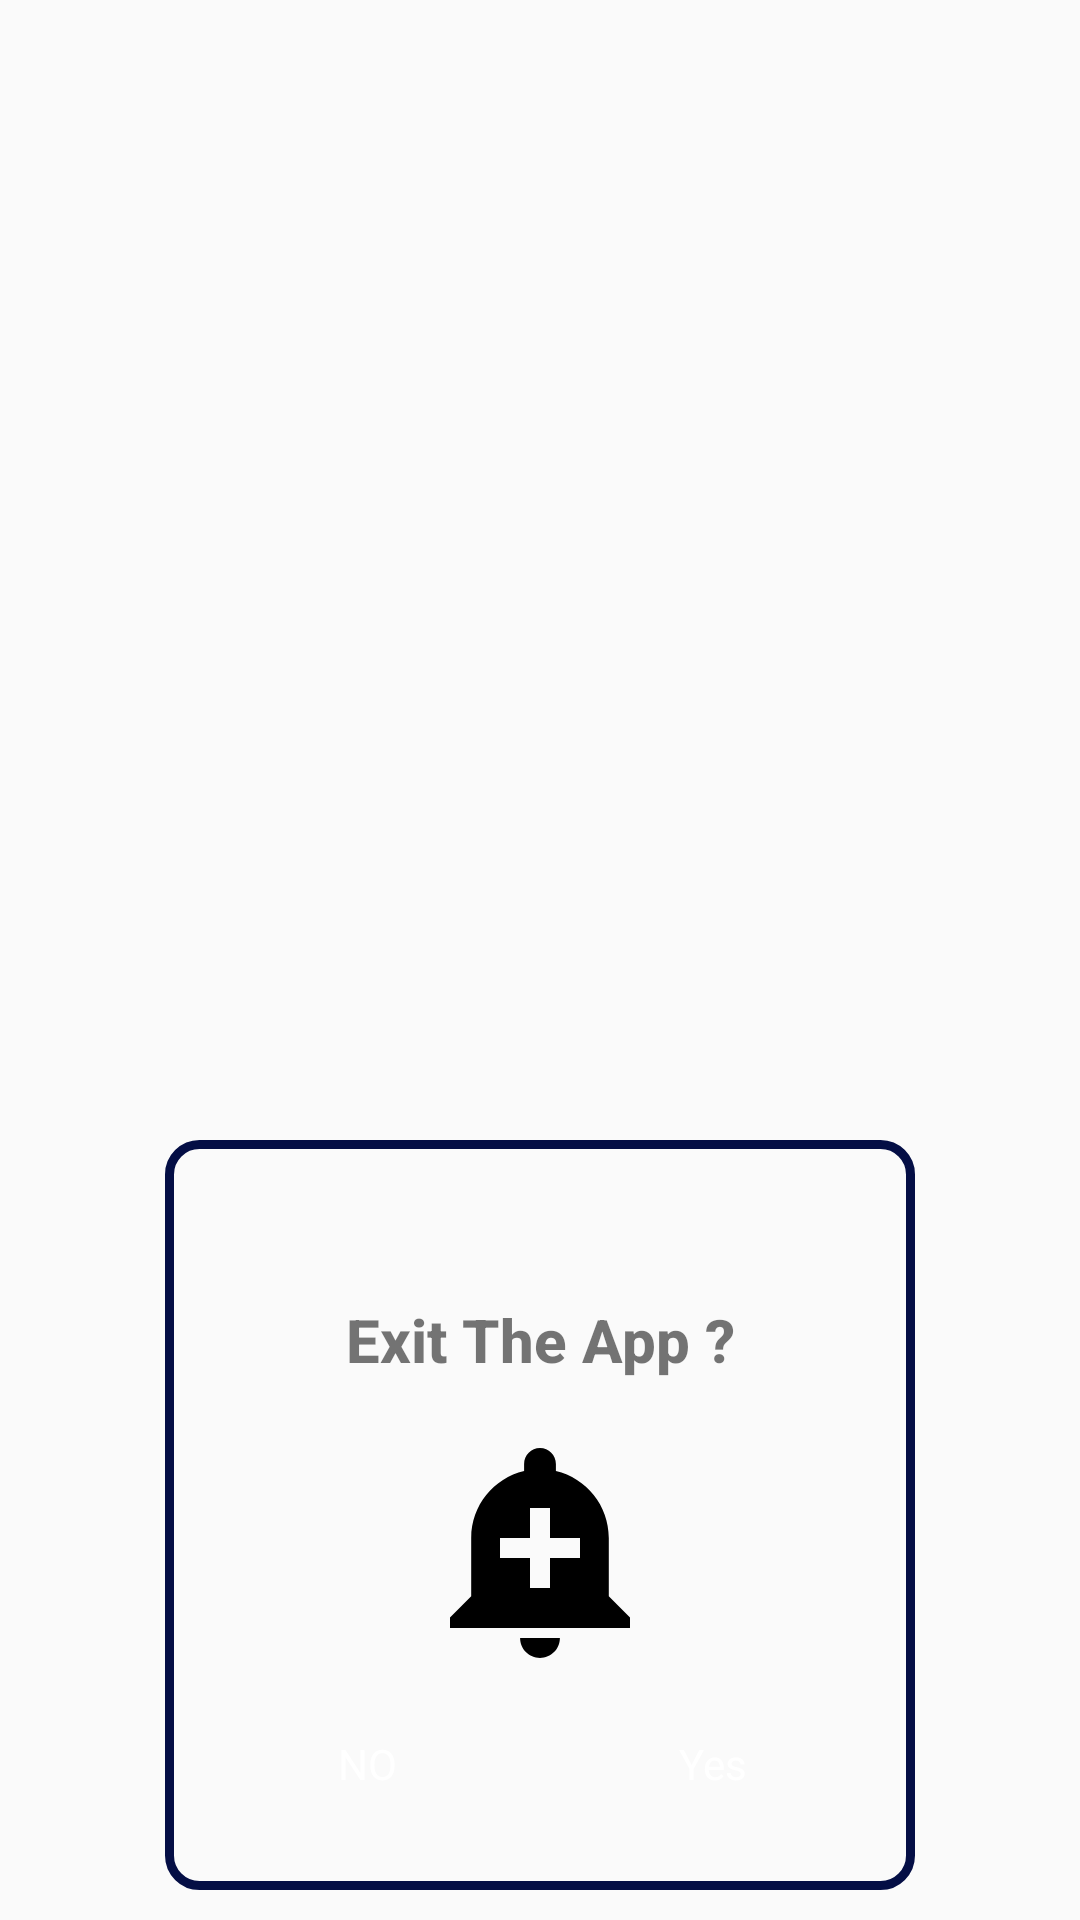

Named icons in this screenshot (1080x1920) and their bounding boxes, {"left": x1, "top": y1, "right": x2, "bottom": y2}:
add alert: {"left": 450, "top": 1448, "right": 630, "bottom": 1658}
